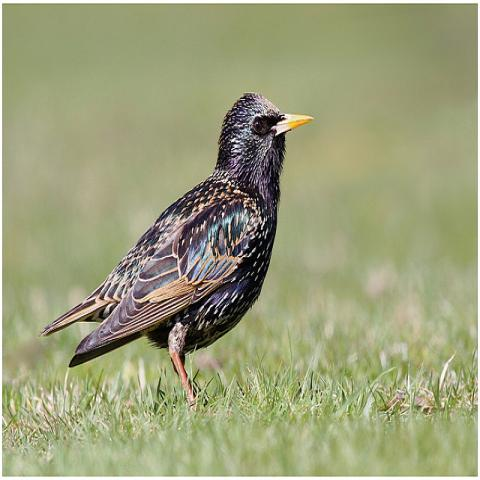bird: (37, 88, 315, 410)
